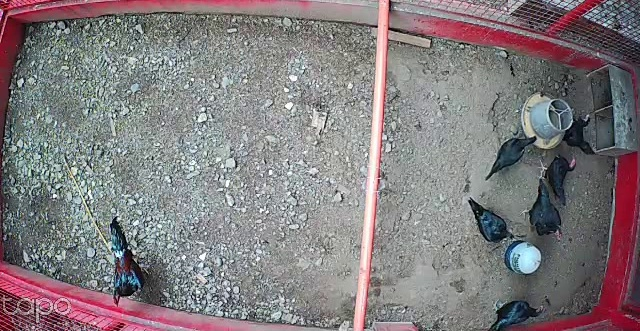Chicken: (481, 133, 539, 182), (520, 178, 565, 241), (533, 155, 579, 209), (468, 196, 518, 244), (486, 296, 548, 331), (557, 109, 599, 157)
Feeder: (521, 92, 573, 150)
Rooster: (104, 215, 153, 319)
